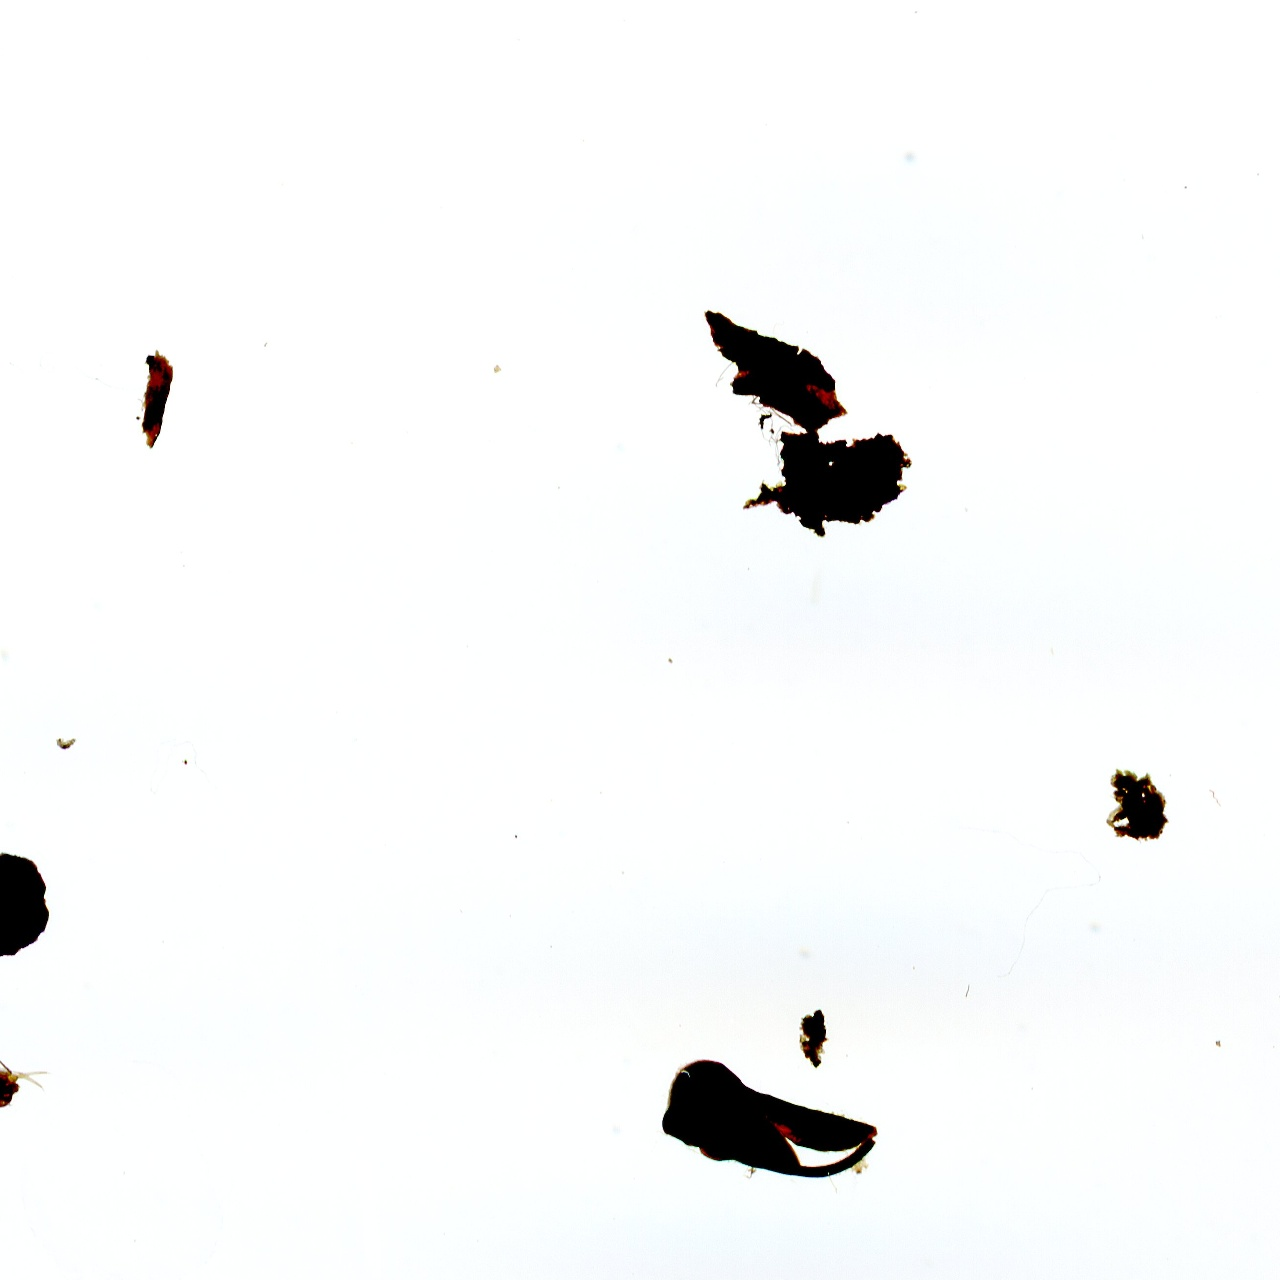arthropod: (0, 1029, 63, 1122)
